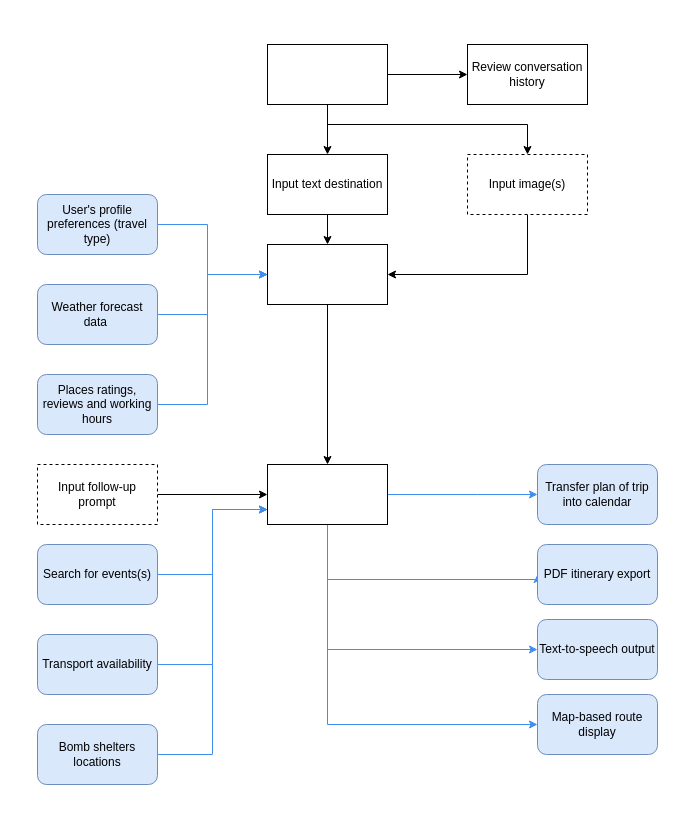
The diagram is 694 pixels wide and 826 high, and some of its shapes have lost their labels. Here are the shapes that lost their labels. From the top down, the box of each, then its label:
(266, 44, 388, 104): Authorization
(266, 244, 388, 304): Search for location(s)
(266, 464, 388, 524): Provide itinerary
